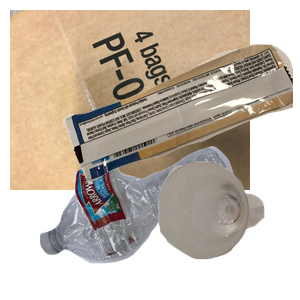cardboard: (10, 10, 250, 190)
glass: (156, 159, 300, 300)
plastic: (37, 144, 265, 300)
trash: (60, 42, 300, 219)
